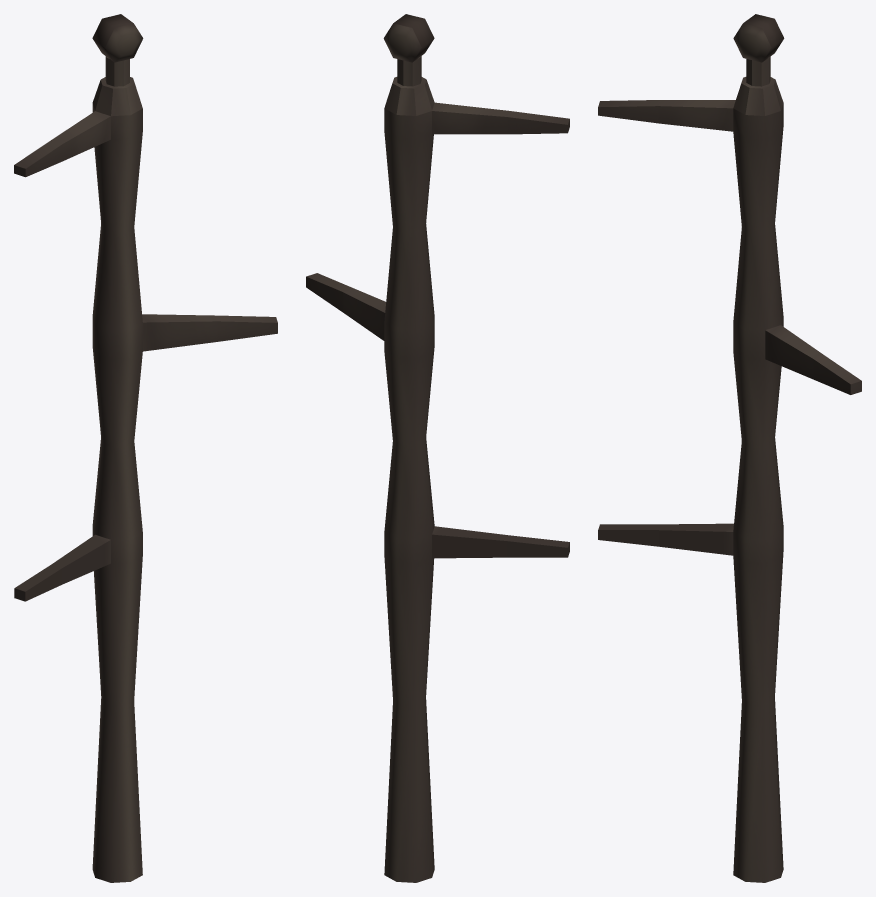
File: SM_hanger.FBX
3 views of the same model, side by side, from view 1: azimuth 30°, elevation 25°; view 2: azimuth 150°, elevation 25°; view 3: azimuth 330°, elevation 25° (orthographic).
Parts seen in each view (by area): view 1: hanger; view 2: hanger; view 3: hanger.
Part boxes in pixels (left/top/right/bottom): hanger: left=14, top=14, right=277, bottom=882; hanger: left=306, top=14, right=569, bottom=882; hanger: left=598, top=14, right=861, bottom=882.
Size of the model in its own units: 441 by 1368 by 137.
1 material, 1 textured.
